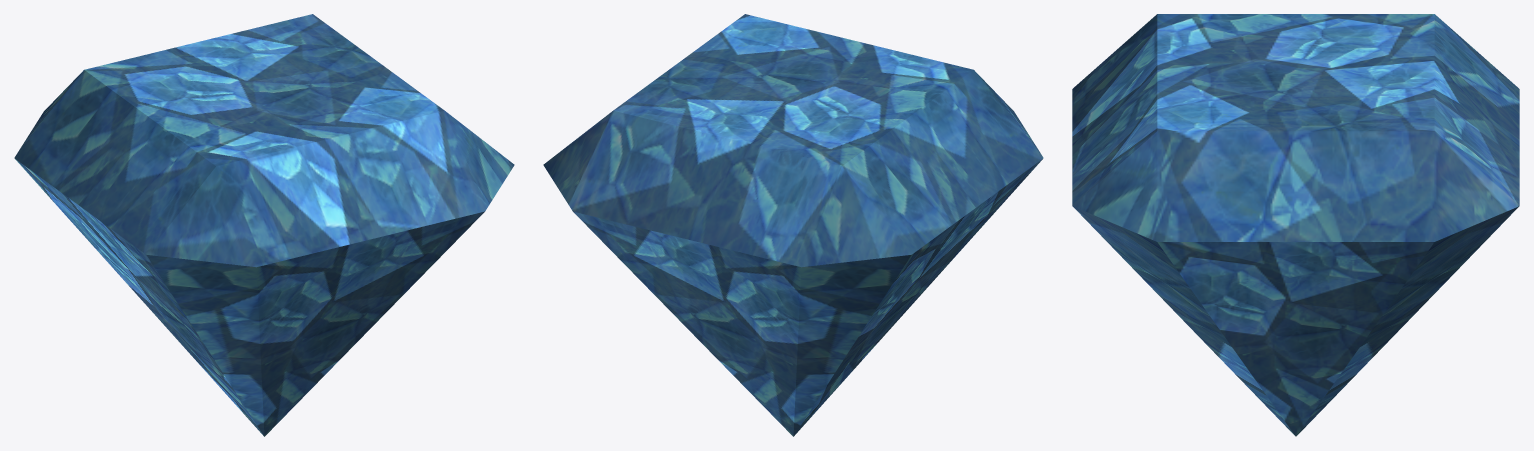
The model's file is p2_gem_blue.fbx.
3 views of the same model, side by side, from view 1: azimuth 30°, elevation 25°; view 2: azimuth 150°, elevation 25°; view 3: azimuth 270°, elevation 25° (orthographic). The views are drawn at different scales.
Parts seen in each view (by area): view 1: mesh; view 2: mesh; view 3: mesh.
Part boxes in pixels (x1,y1,x2,y2): mesh: (14, 14, 514, 436); mesh: (543, 14, 1043, 436); mesh: (1072, 14, 1519, 436).
Bounding box in the file's own units: 39.86 × 35.84 × 39.86.
